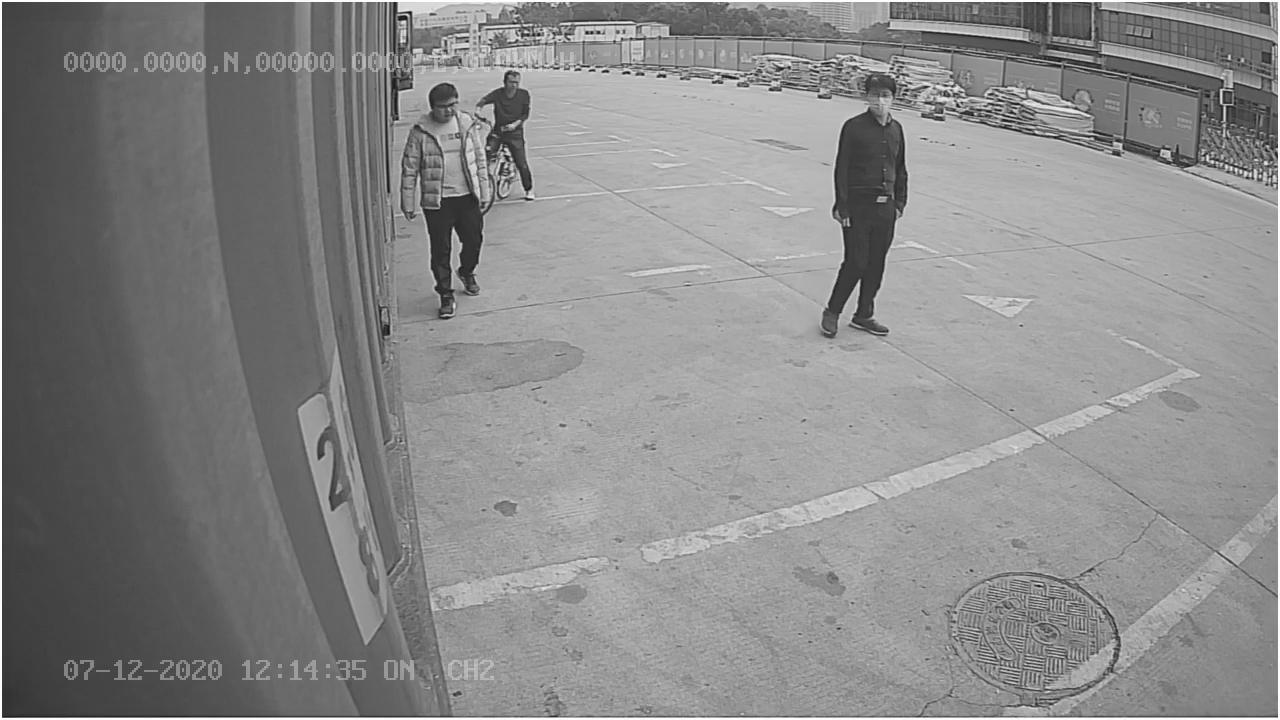person: (819, 72, 918, 342)
